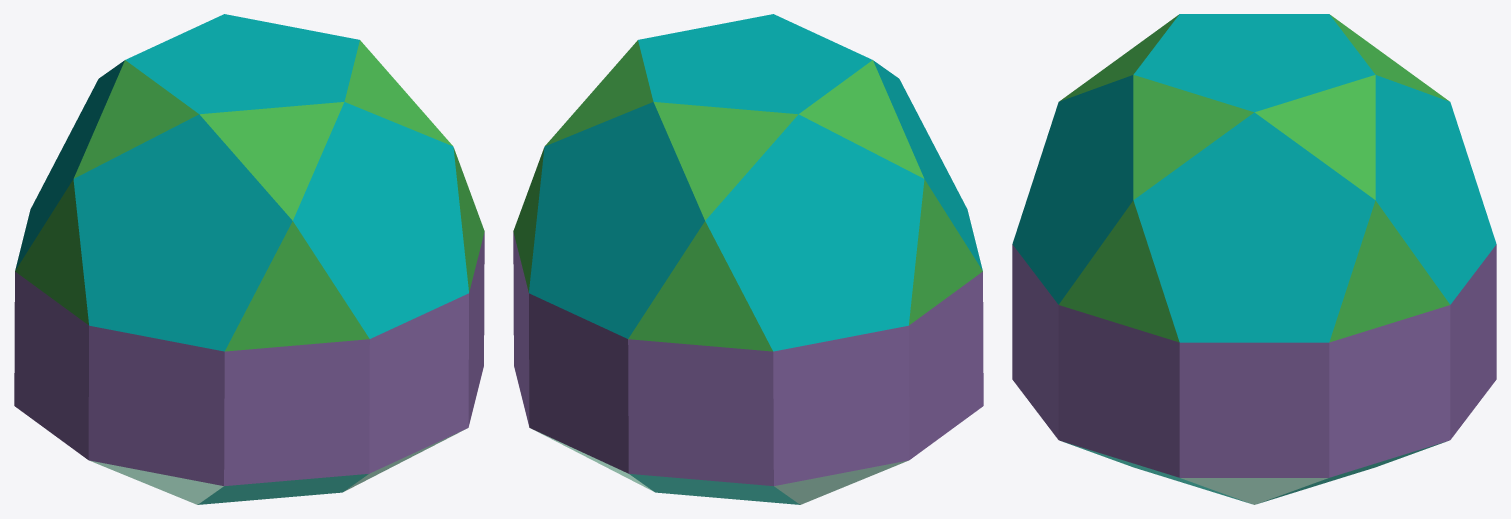
File: J40.OrtocupularrotondaPentagonalElongada.gltf
3 renders of one model, left to right at view 1: azimuth 30°, elevation 25°; view 2: azimuth 150°, elevation 25°; view 3: azimuth 270°, elevation 25°, orthographic.
Visible parts, largest first — view 1: J40.OrtocupularrotondaPentagonalElongada; view 2: J40.OrtocupularrotondaPentagonalElongada; view 3: J40.OrtocupularrotondaPentagonalElongada.
Boxes of the visible parts, x1,y1,x2,y2 form: J40.OrtocupularrotondaPentagonalElongada: [14, 14, 484, 504]; J40.OrtocupularrotondaPentagonalElongada: [513, 14, 983, 504]; J40.OrtocupularrotondaPentagonalElongada: [1012, 14, 1496, 504].
Bounding box in the file's own units: 14.96 × 14.12 × 15.71.
